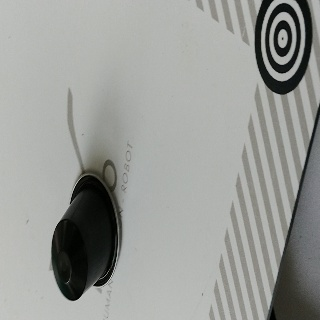capsule_10: (51, 170, 121, 301)
